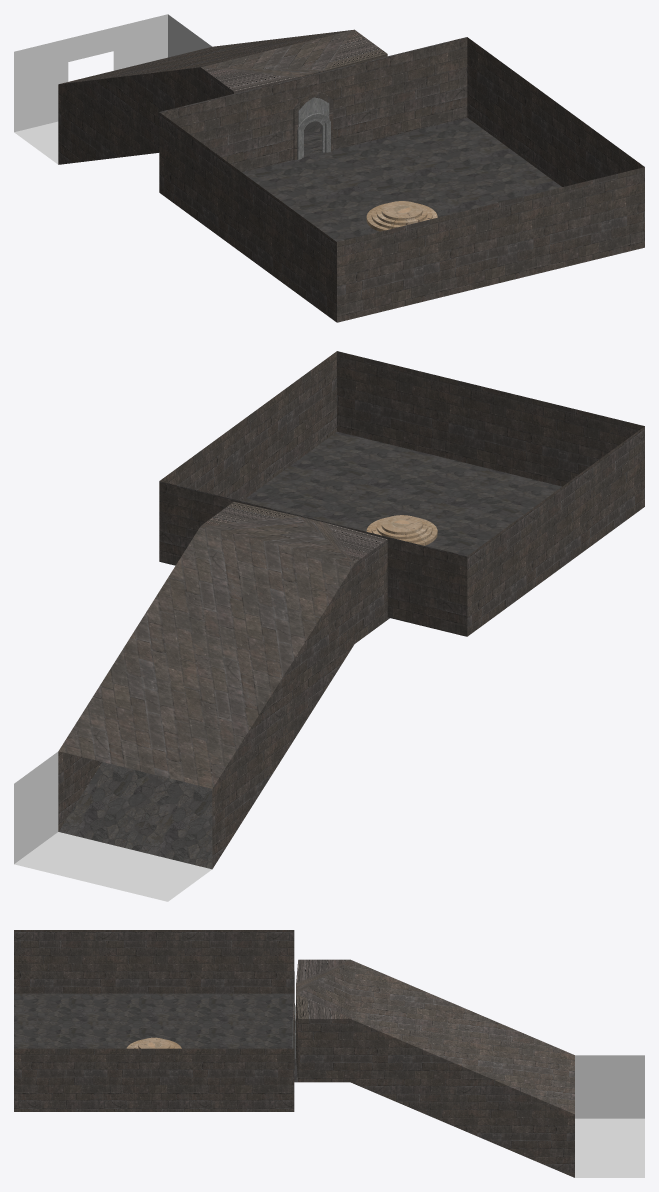
Rendered from spawn.gltf.
3 views of the same model, one above another, from view 1: azimuth 30°, elevation 25°; view 2: azimuth 150°, elevation 25°; view 3: azimuth 270°, elevation 25° (orthographic). The views are drawn at different scales.
Visible parts, largest first — view 1: Floor, Ceiling2, DoorFrame; view 2: Floor, Ceiling2; view 3: Floor, Ceiling2.
Boxes of the visible parts, x1,y1,x2,y2 form: Floor: [14, 14, 644, 322]; Ceiling2: [59, 29, 387, 91]; DoorFrame: [297, 97, 330, 159]; Floor: [14, 351, 644, 901]; Ceiling2: [59, 502, 387, 788]; Floor: [14, 930, 644, 1177]; Ceiling2: [296, 959, 574, 1114].
Bounding box in the file's own units: 20 × 12.52 × 45.
4 materials, 4 textured.
